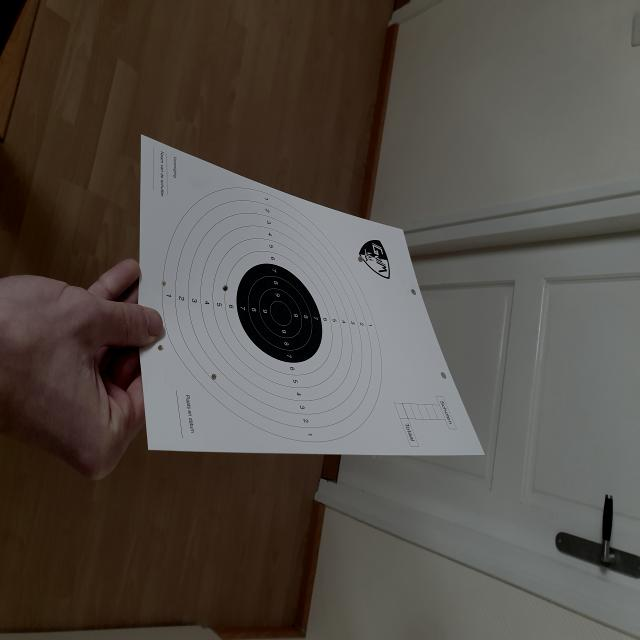0: (157, 344, 164, 352), (358, 256, 364, 262)
1: (161, 280, 166, 288)
2: (211, 372, 217, 380)
6: (222, 285, 228, 292)
Target: (163, 187, 383, 440)
black_contour: (236, 263, 323, 362)
